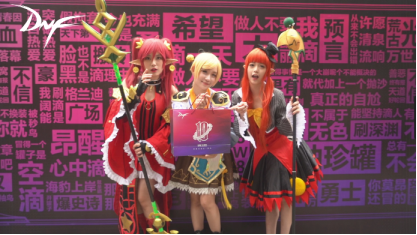handsup: (101, 28, 184, 230)
other: (235, 46, 323, 227), (176, 43, 249, 232)
